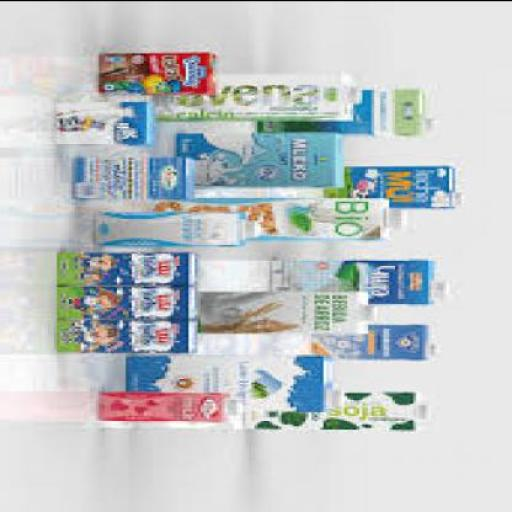cardboard: (153, 66, 368, 122), (198, 256, 440, 303), (132, 353, 330, 410), (153, 196, 392, 241), (177, 128, 344, 182), (264, 90, 428, 140), (243, 388, 422, 430), (204, 289, 371, 331), (66, 153, 201, 199), (326, 164, 464, 206), (96, 50, 228, 92), (56, 248, 200, 286), (93, 208, 252, 242), (57, 317, 204, 351), (57, 284, 204, 317), (306, 322, 434, 359), (93, 391, 237, 420), (57, 101, 156, 143)
paper: (389, 205, 413, 225), (423, 111, 440, 131), (230, 400, 252, 414), (252, 214, 266, 234), (336, 386, 350, 404), (419, 401, 434, 416), (440, 276, 455, 291), (353, 82, 366, 99), (456, 190, 470, 204), (431, 336, 443, 350)
